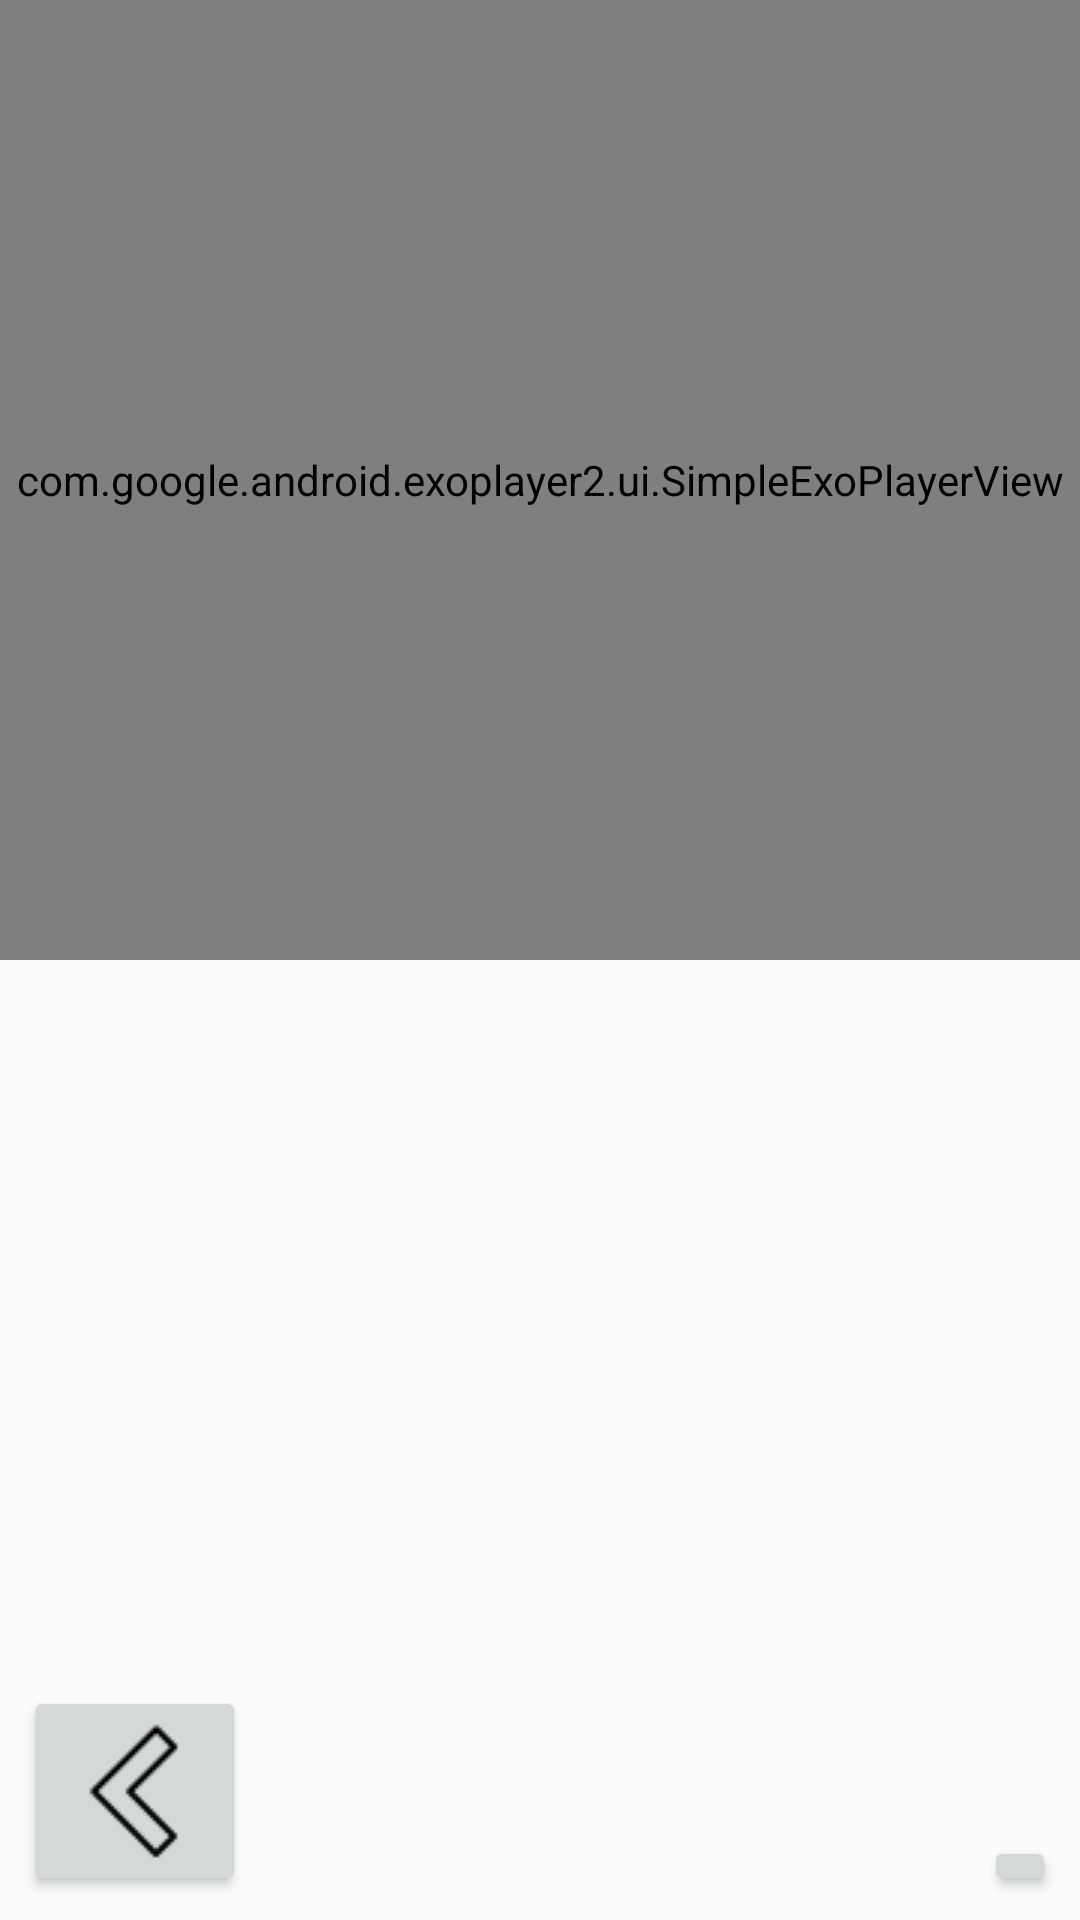

Point at icon controls on the screen. Image size 1080 × 1920, points as (x,y).
arrow: (134,1794)
